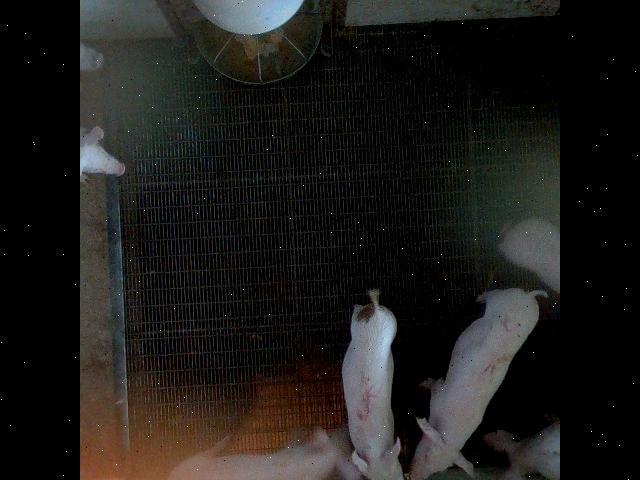pig-5: (342, 288, 407, 480)
